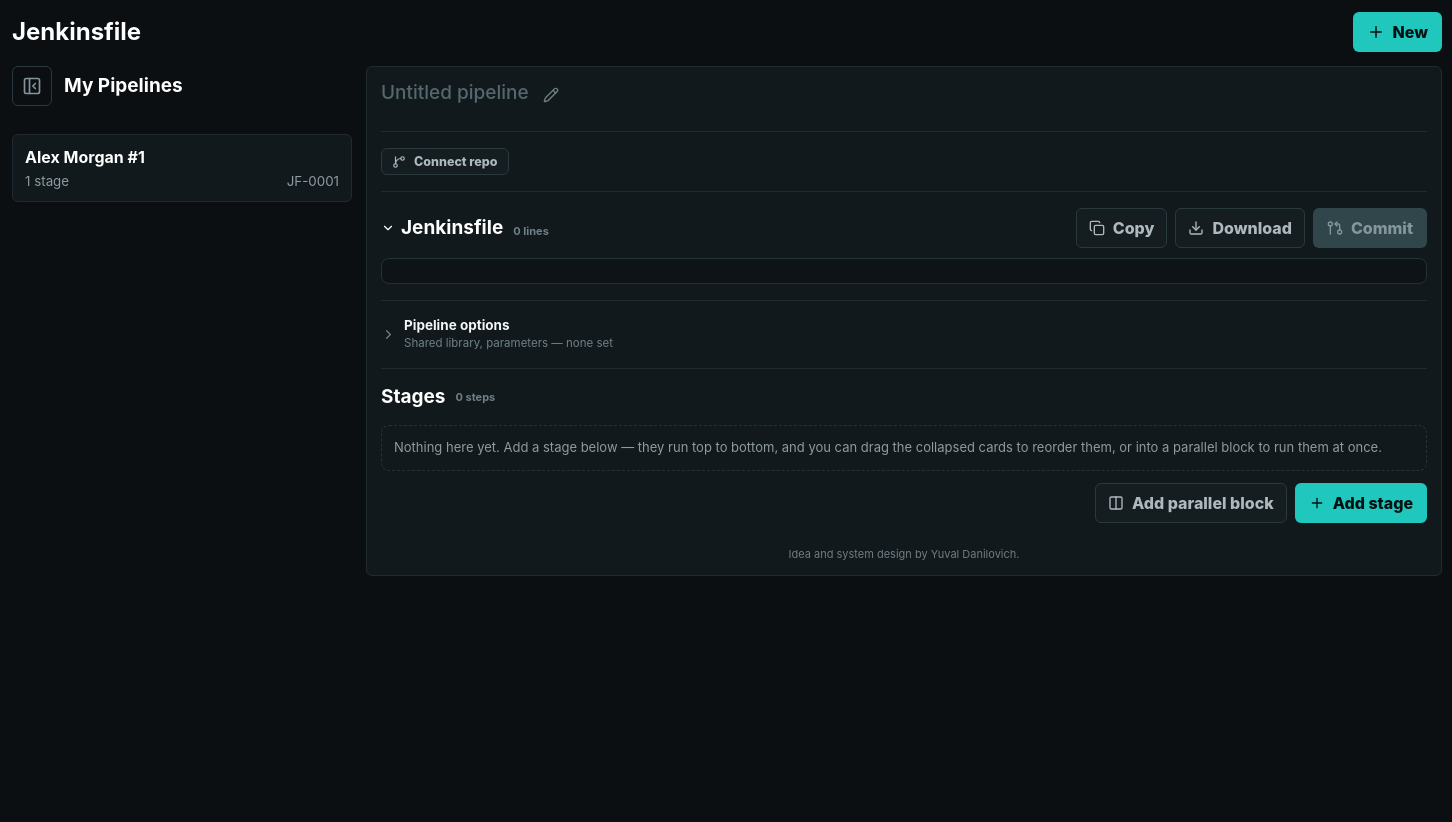
Test: JenkinsfileView › moves a saved pipeline's old Groovy block into the first card, and saves it without one
Click the text "Alex Morgan #1".
click(85, 157)  # box [25,147,145,167]
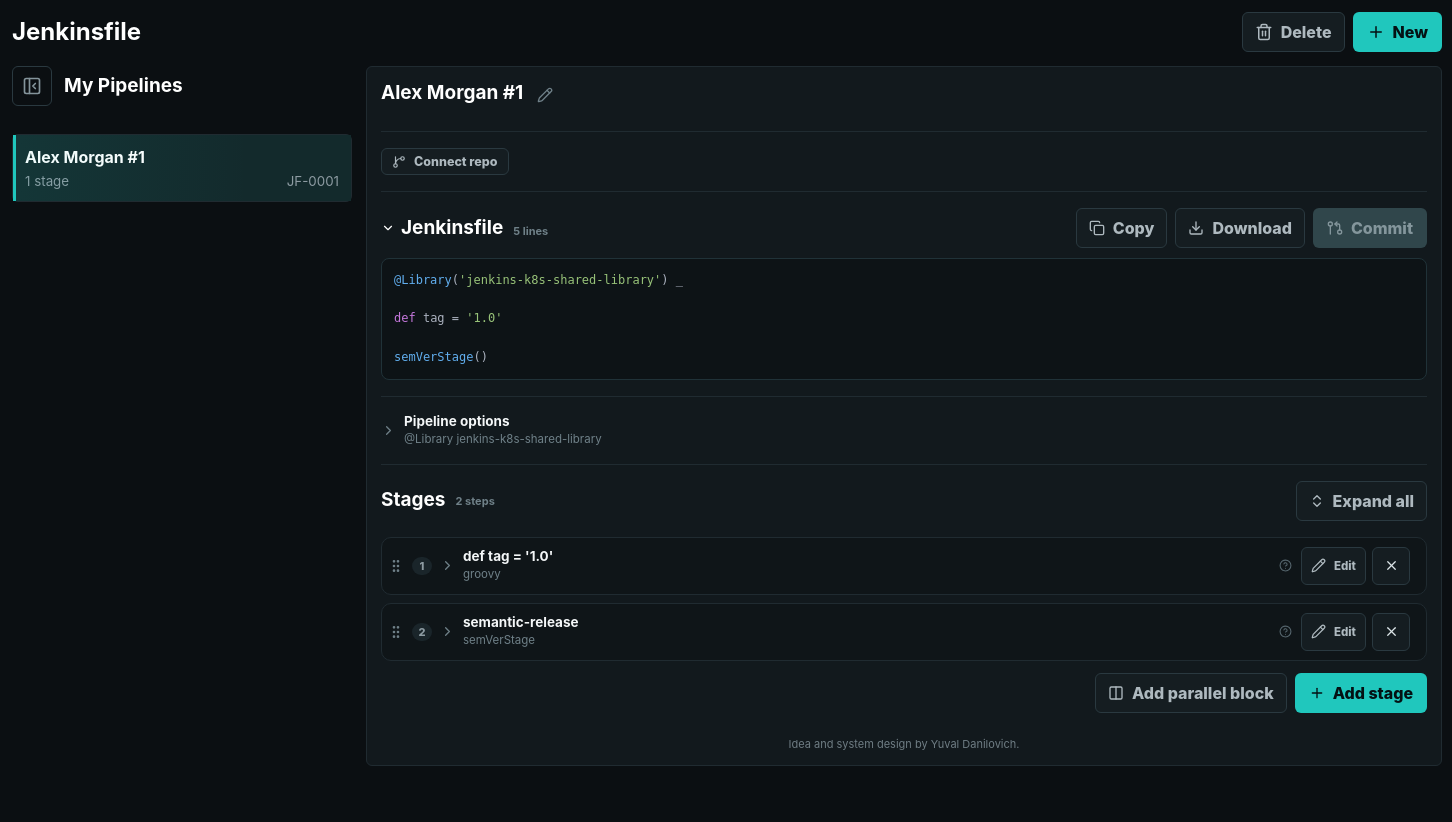
Check: the button with aria-label "Expand def tag = '1.0'" is shown, box [440,548,1270,583]
